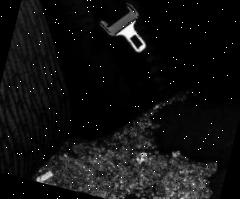glass: (33, 121, 219, 199)
